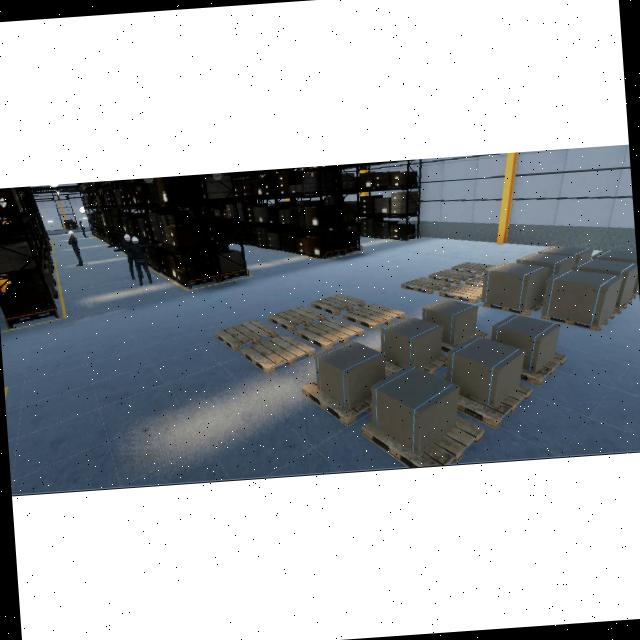wooden_pallet: (357, 413, 481, 468), (456, 382, 530, 429), (299, 381, 371, 426), (236, 334, 313, 375), (293, 318, 362, 353), (210, 319, 277, 353), (264, 303, 324, 331), (341, 301, 403, 328), (518, 350, 563, 385), (537, 310, 613, 330), (307, 293, 363, 316), (480, 299, 541, 316), (436, 282, 480, 304), (399, 276, 449, 293), (425, 268, 473, 284), (449, 260, 492, 275), (461, 273, 481, 286)
